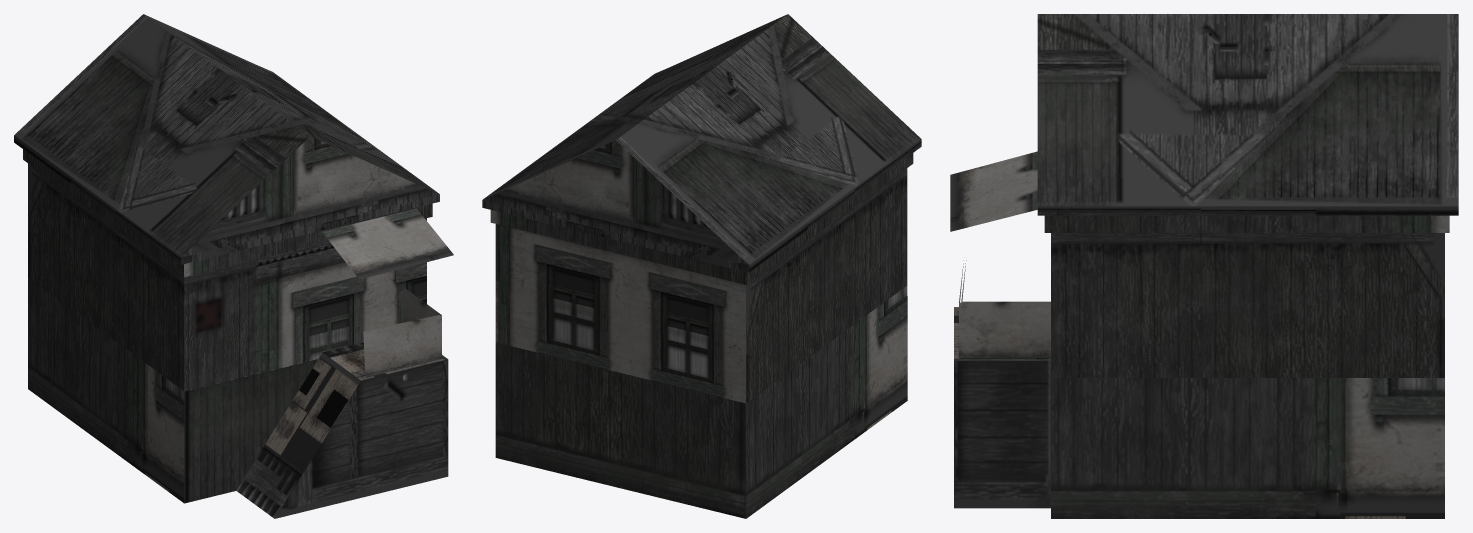
The model's file is RurHut_06.FBX.
3 views of the same model, side by side, from view 1: azimuth 30°, elevation 25°; view 2: azimuth 150°, elevation 25°; view 3: azimuth 270°, elevation 25° (orthographic). The views are drawn at different scales.
Visible parts, largest first — view 1: hut; view 2: hut; view 3: hut.
Part boxes in pixels (x1=…): hut: x1=14, y1=14, x2=453, y2=518; hut: x1=482, y1=14, x2=921, y2=518; hut: x1=950, y1=14, x2=1458, y2=518.
Size of the model in its own units: 6.34 by 7.99 by 8.56.
